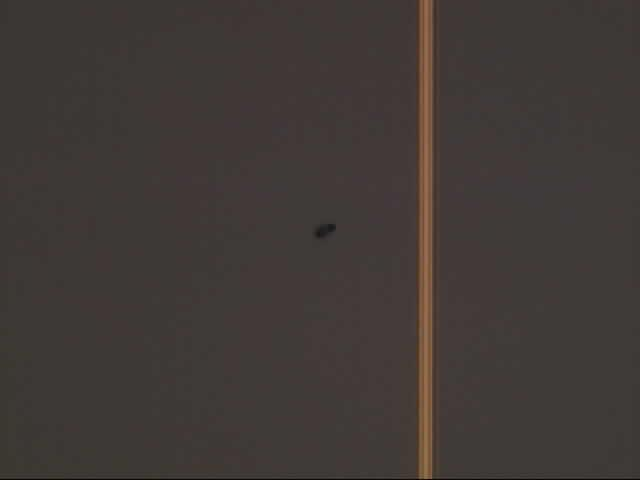PIQ PARTICLE: (310, 217, 345, 243)
